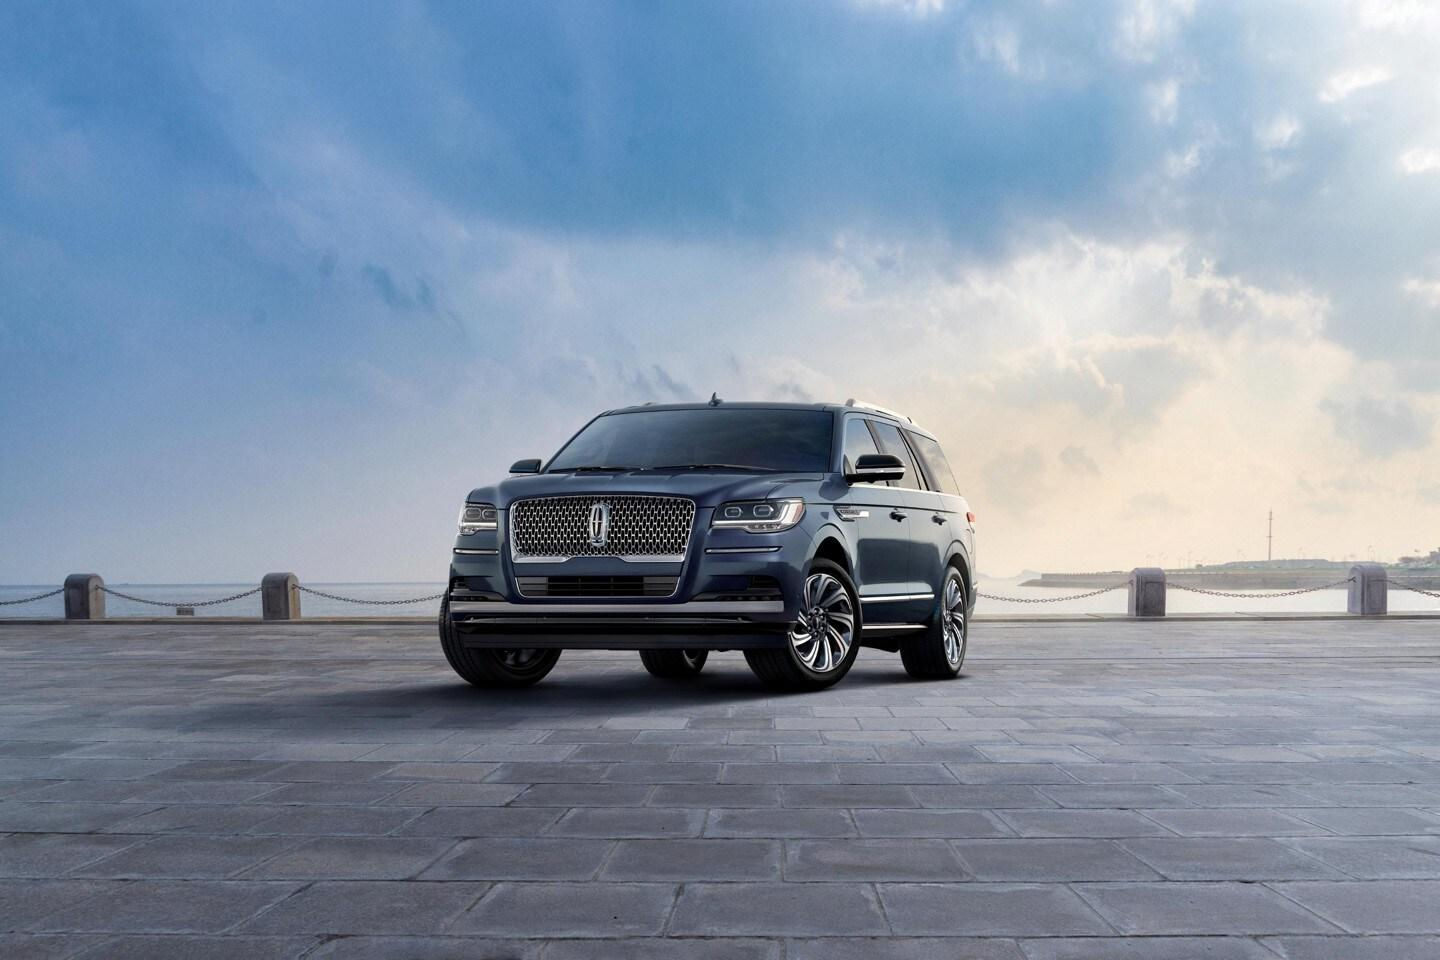lincoln: (583, 497, 614, 551)
